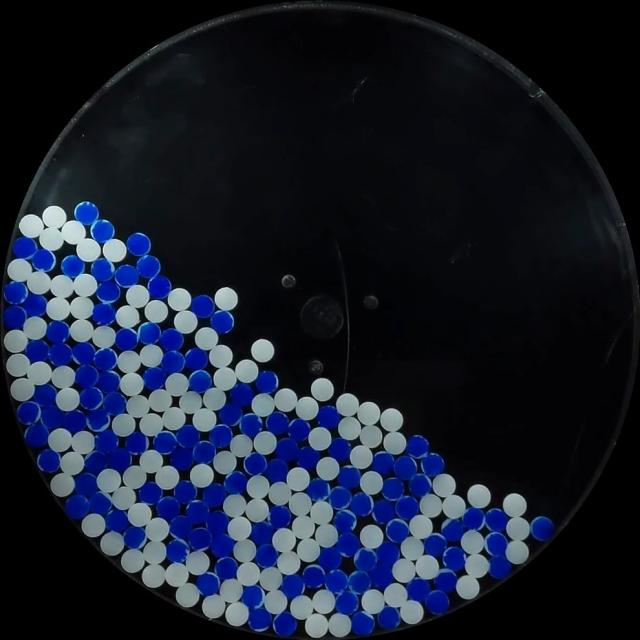pmmma-blanca: (124, 501, 154, 529), (229, 434, 257, 460), (155, 465, 181, 491), (463, 553, 489, 579), (456, 574, 482, 600), (111, 413, 138, 438), (188, 463, 215, 488), (327, 610, 352, 637), (9, 377, 37, 401), (27, 361, 53, 386), (102, 530, 127, 556), (290, 595, 316, 620), (419, 494, 444, 520), (379, 407, 404, 432), (337, 415, 362, 440), (502, 493, 527, 518), (19, 213, 43, 239), (232, 538, 258, 562), (272, 527, 296, 553), (305, 613, 331, 637), (359, 524, 385, 548), (358, 471, 384, 495), (504, 517, 530, 541), (504, 540, 530, 564), (116, 304, 141, 328), (55, 387, 80, 411), (165, 564, 190, 588), (360, 590, 385, 614), (382, 431, 407, 455), (442, 494, 466, 519), (467, 483, 491, 508), (192, 408, 218, 431), (138, 344, 164, 367), (2, 330, 28, 353), (288, 493, 314, 516), (308, 501, 334, 524), (356, 401, 382, 424), (168, 288, 192, 312), (172, 310, 196, 334), (51, 364, 75, 388), (50, 473, 74, 497), (296, 395, 320, 419), (316, 456, 340, 480), (237, 562, 261, 586), (225, 602, 249, 626), (409, 514, 433, 538), (392, 559, 416, 583), (461, 530, 485, 554), (162, 407, 187, 430), (144, 563, 167, 588), (244, 498, 269, 521), (383, 584, 408, 607), (359, 425, 384, 448), (252, 340, 278, 362), (96, 470, 122, 492), (226, 518, 252, 540), (432, 474, 458, 496), (39, 228, 66, 249), (62, 220, 85, 244), (9, 258, 32, 282), (146, 300, 169, 324), (194, 327, 218, 350), (214, 287, 238, 310), (48, 428, 72, 451), (213, 451, 237, 474), (251, 394, 275, 417), (274, 388, 298, 411), (286, 466, 310, 489), (247, 475, 270, 499), (261, 566, 284, 590), (265, 590, 288, 614), (122, 549, 146, 572), (296, 537, 319, 561), (312, 590, 336, 613), (336, 392, 359, 416), (147, 389, 172, 411), (120, 374, 145, 396), (117, 351, 142, 373), (175, 583, 200, 605), (292, 514, 314, 539), (26, 271, 49, 294), (70, 296, 93, 319), (113, 486, 136, 509), (400, 537, 423, 560), (78, 238, 100, 262), (103, 240, 127, 262), (74, 274, 98, 296), (92, 326, 116, 348), (167, 374, 191, 396), (203, 388, 227, 410), (6, 354, 30, 376), (59, 452, 83, 474), (310, 379, 334, 401), (269, 482, 291, 506), (276, 552, 300, 574), (350, 445, 372, 469), (82, 514, 107, 535), (209, 346, 235, 366), (43, 205, 65, 228), (70, 319, 92, 342), (178, 391, 200, 414), (140, 413, 162, 436), (24, 316, 46, 339), (145, 518, 168, 540), (254, 432, 277, 454), (309, 427, 332, 449), (315, 522, 338, 544), (401, 600, 424, 622), (416, 556, 439, 578), (185, 553, 209, 574), (219, 580, 243, 601), (122, 468, 147, 488), (50, 275, 72, 297), (47, 297, 69, 319), (126, 286, 148, 308), (224, 494, 246, 516), (203, 595, 225, 617), (126, 396, 149, 417), (72, 432, 94, 453), (144, 542, 166, 562), (140, 452, 162, 472), (236, 361, 256, 382), (214, 368, 234, 388)
